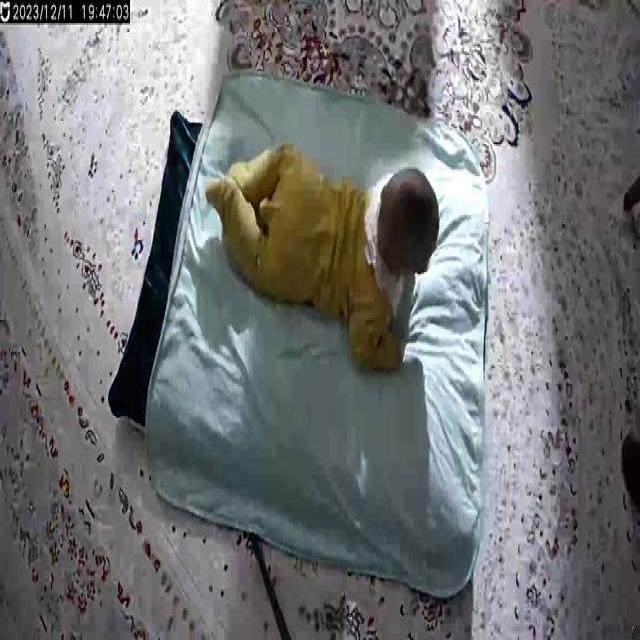baby: (205, 143, 444, 387)
